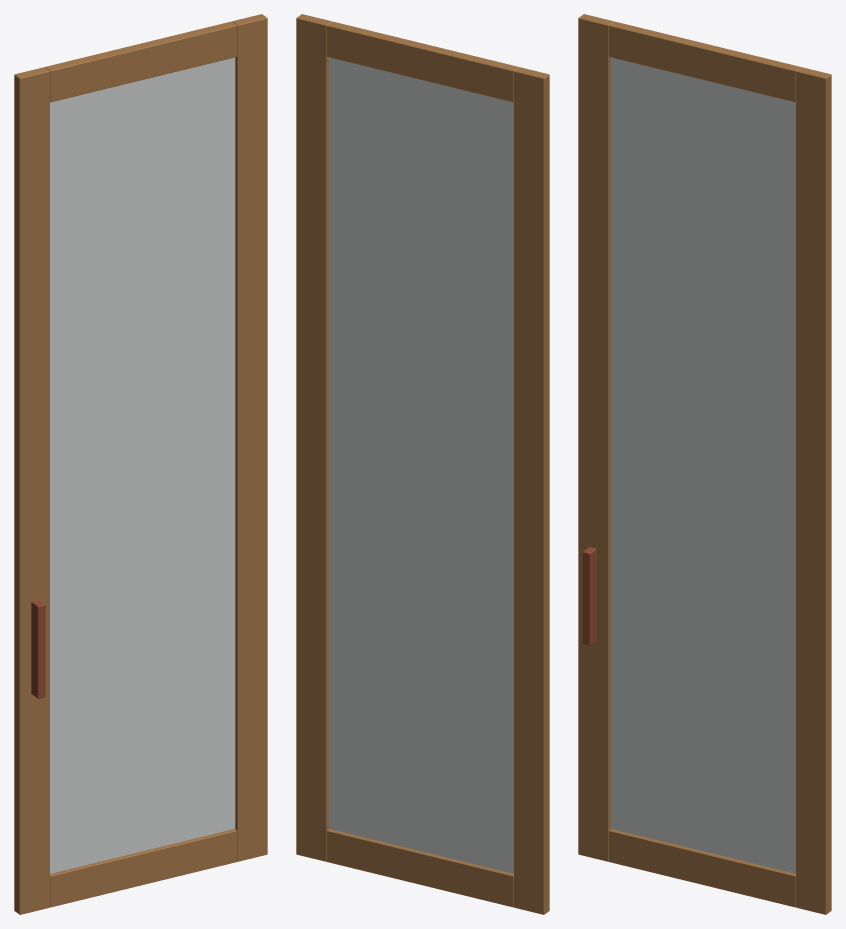
Rendered from glass_door_display_drawers_right_door.glb.
3 views of the same model, side by side, from view 1: azimuth 30°, elevation 25°; view 2: azimuth 150°, elevation 25°; view 3: azimuth 330°, elevation 25° (orthographic).
Parts seen in each view (by area): view 1: glass_door_display_drawers_right_door.001; view 2: glass_door_display_drawers_right_door.001; view 3: glass_door_display_drawers_right_door.001.
Boxes of the visible parts, x1=… form: glass_door_display_drawers_right_door.001: x1=14, y1=14, x2=267, y2=914; glass_door_display_drawers_right_door.001: x1=296, y1=14, x2=549, y2=914; glass_door_display_drawers_right_door.001: x1=578, y1=14, x2=831, y2=914.
Size of the model in its own units: 0.4485 by 1.45 by 0.04.
